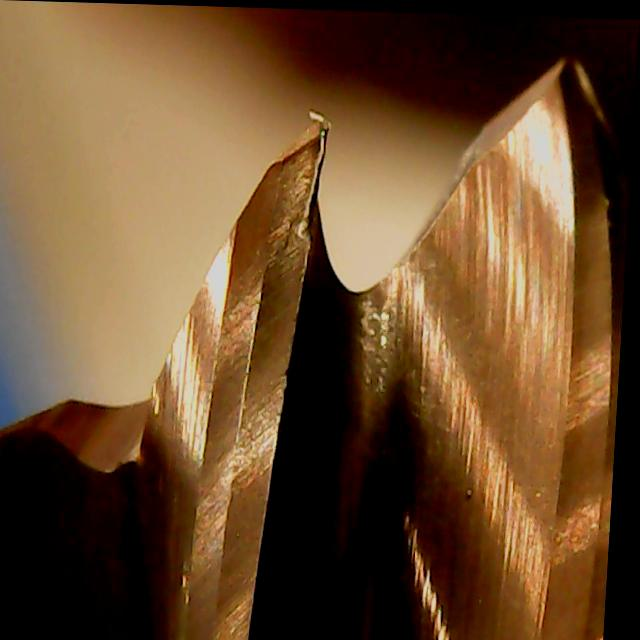Tool-wear-class-1: (192, 105, 342, 440)
